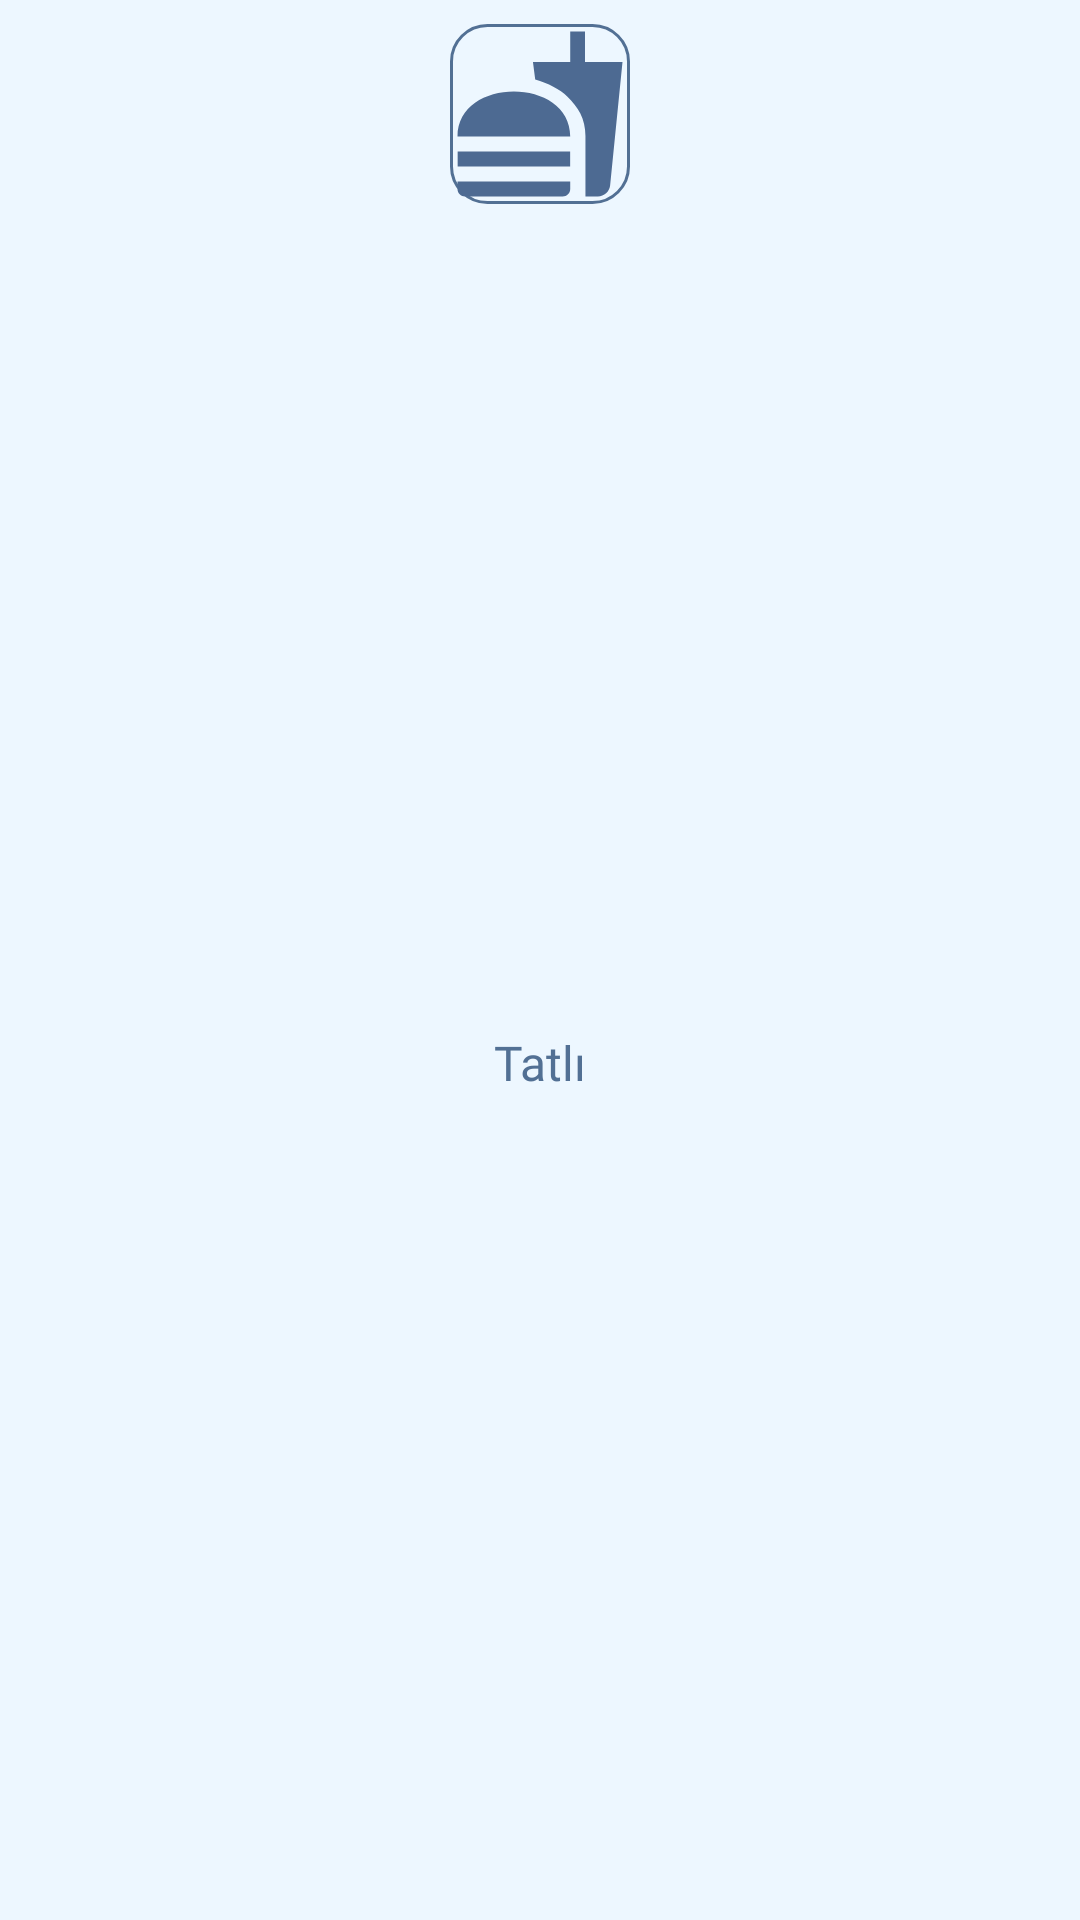

Named icons in this screenshot (1080w x 1920h) and their bounding boxes, (x1, y1, x2, y2):
fastfood: (450, 24, 630, 204)
